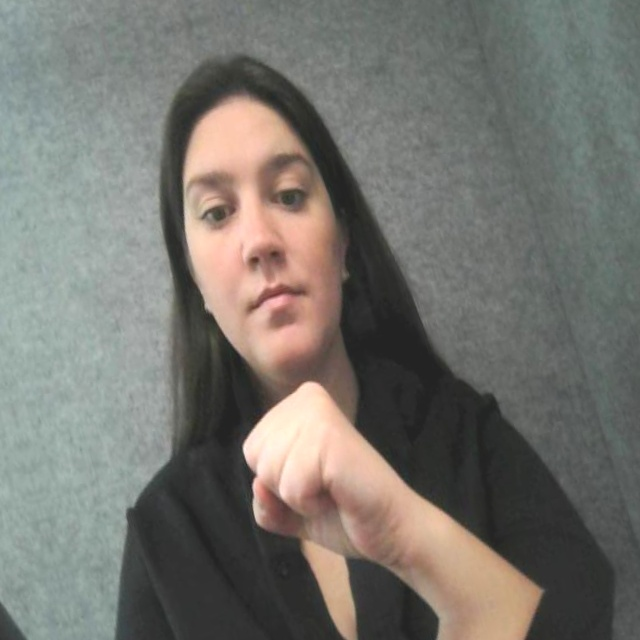Rock: (222, 367, 413, 590)
